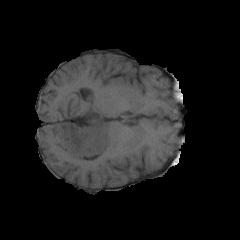glioma: (62, 101, 110, 160)
